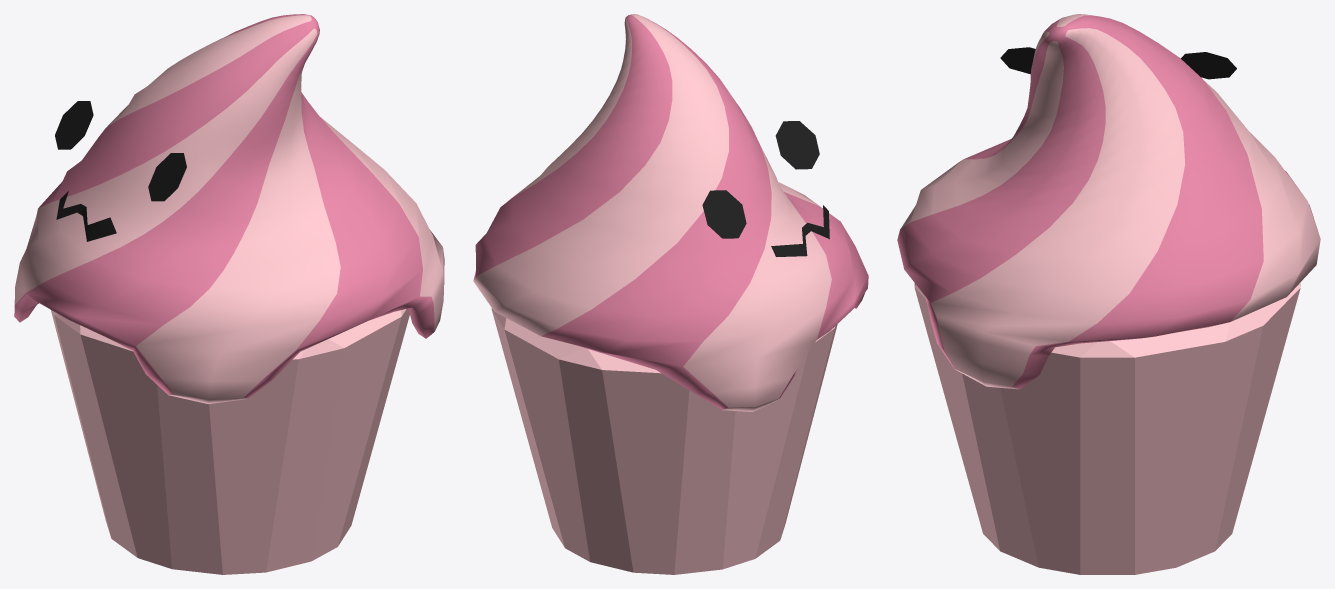
Rendered from props.fbx_item_cupcake.fbx.
The picture shows the model from 3 angles, left to right: view 1: azimuth 30°, elevation 25°; view 2: azimuth 150°, elevation 25°; view 3: azimuth 270°, elevation 25°; orthographic projection. The views are drawn at different scales.
Visible parts, largest first — view 1: item_cupcake; view 2: item_cupcake; view 3: item_cupcake.
Boxes of the visible parts, left/top/right/bottom form: item_cupcake: left=14, top=14, right=444, bottom=574; item_cupcake: left=473, top=14, right=868, bottom=574; item_cupcake: left=897, top=14, right=1320, bottom=574.
Bounding box in the file's own units: 71.39 × 95.27 × 69.38.
